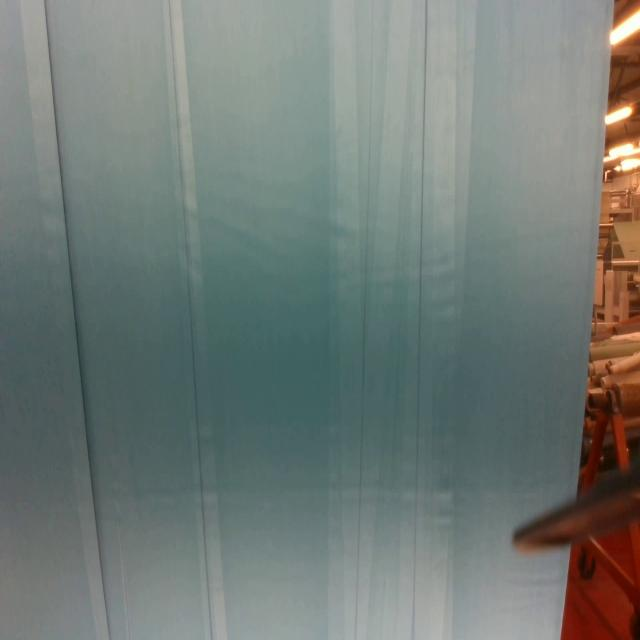crease: (43, 0, 110, 640), (168, 0, 216, 640), (351, 0, 376, 640), (410, 1, 430, 640), (117, 520, 132, 638)
